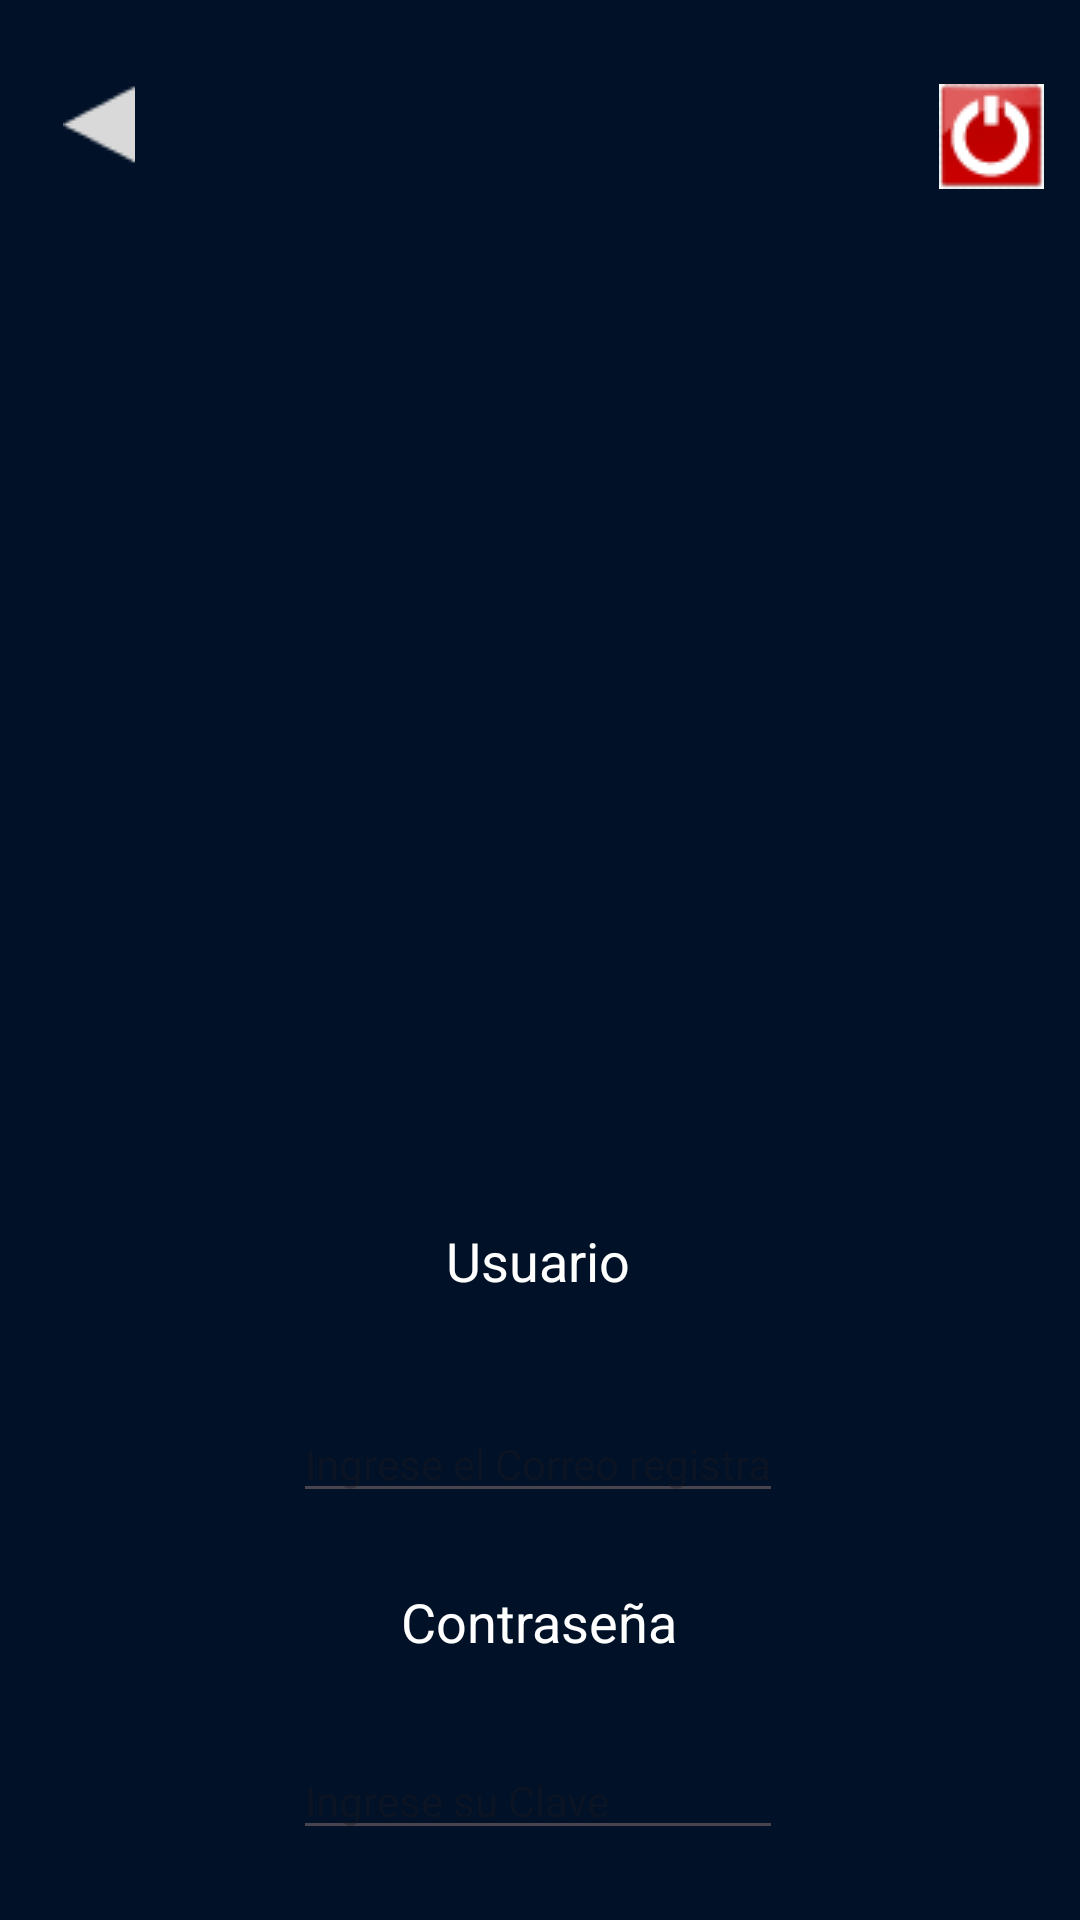

Screen size 1080×1920. Icon name, then its center in pixels as (x=x, y=y):
polygon: (x=99, y=124)
